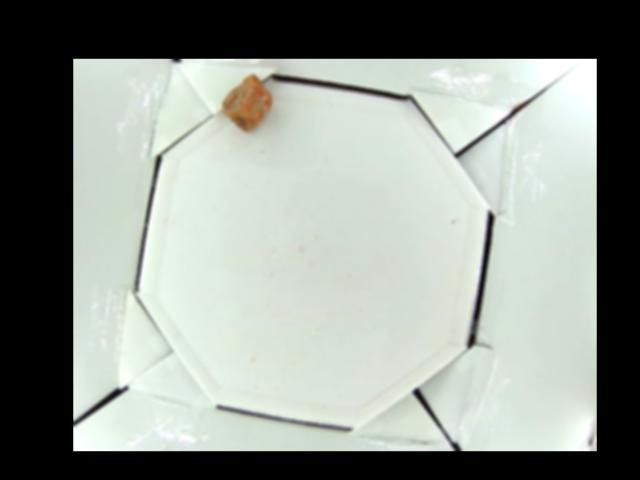Brisk: (220, 73, 273, 131)
